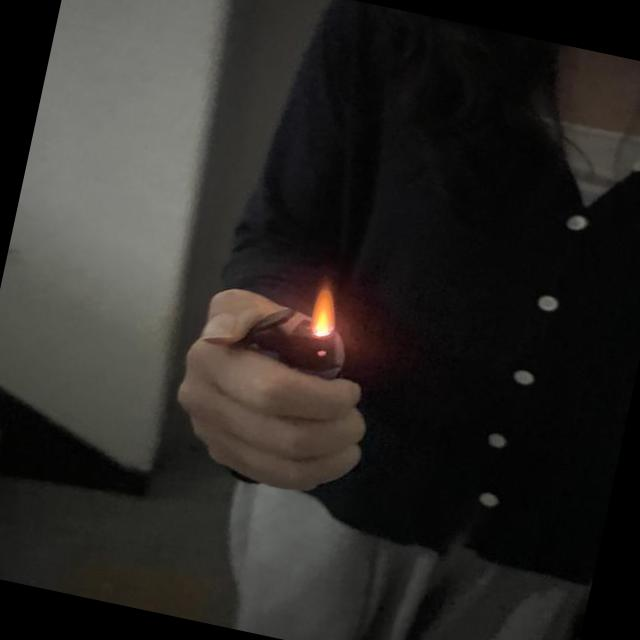Fire: (307, 280, 343, 334)
